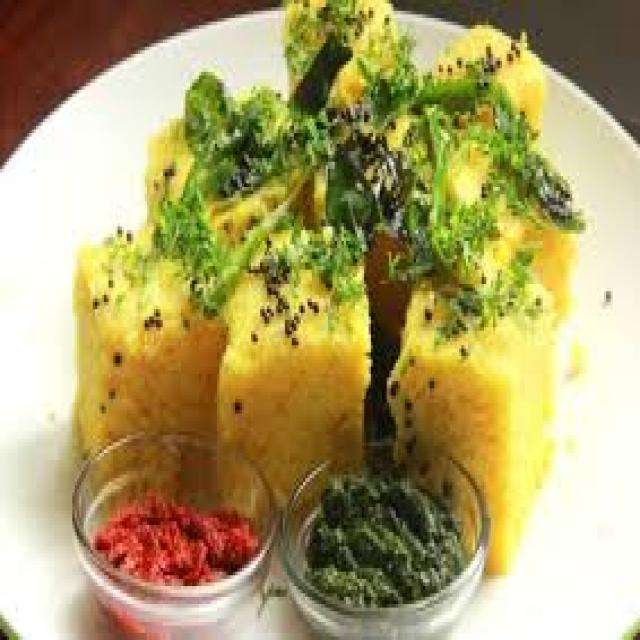DHOKLA: (72, 0, 583, 564)
